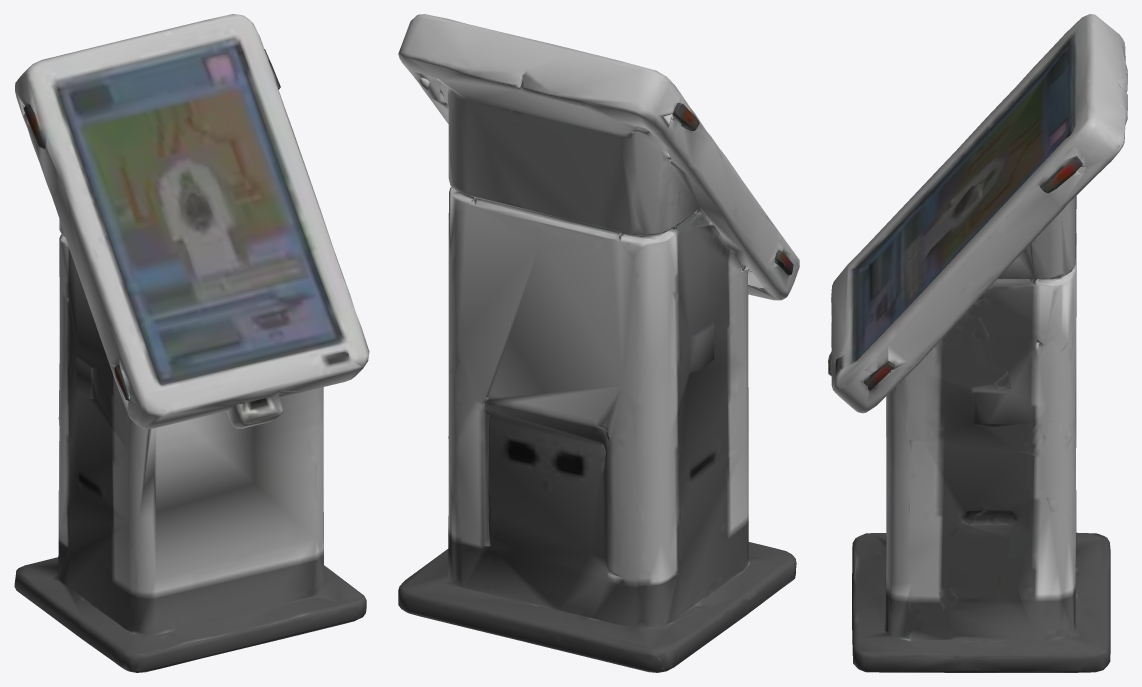
Rendered from display_screen.glb.
3 views of the same model, side by side, from view 1: azimuth 30°, elevation 25°; view 2: azimuth 150°, elevation 25°; view 3: azimuth 270°, elevation 25° (orthographic). The views are drawn at different scales.
Visible parts, largest first — view 1: geometry_0; view 2: geometry_0; view 3: geometry_0.
Boxes of the visible parts, x1,y1,x2,y2 form: geometry_0: (14,14,369,672); geometry_0: (398,14,799,672); geometry_0: (828,14,1127,672).
Size of the model in its own units: 0.4864 by 1 by 0.4967.
Materials: 1 (1 with a texture image).
